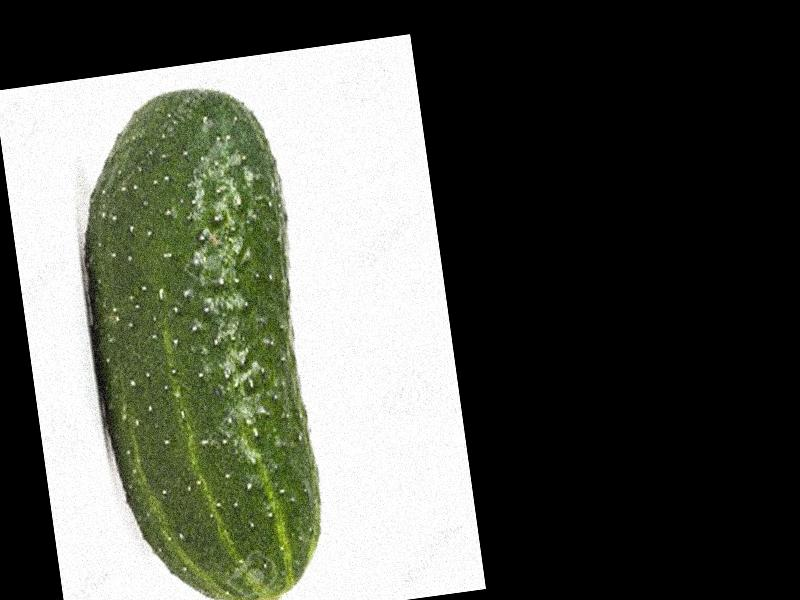Cucumber: (61, 78, 333, 600)
